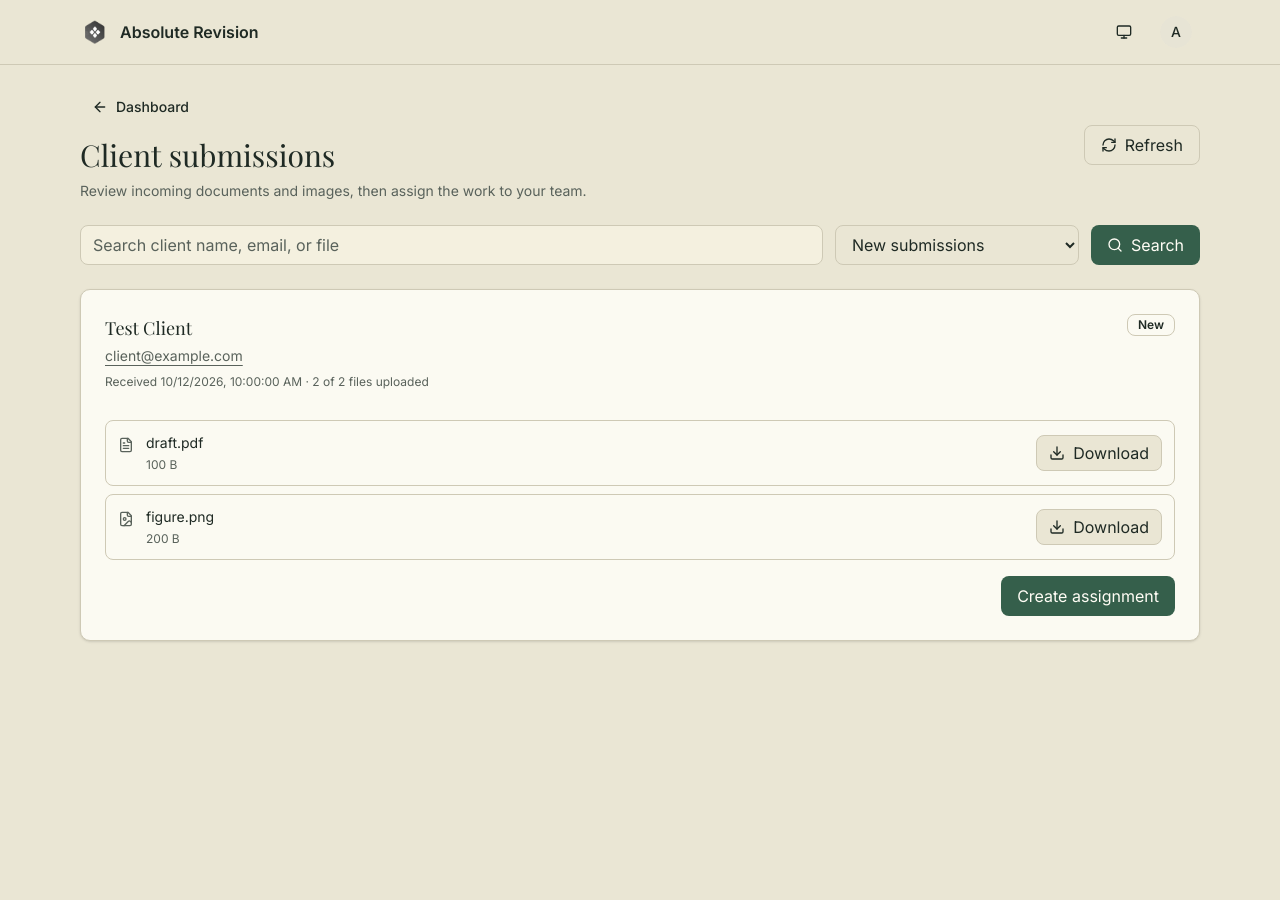
Test case: client submissions inbox › creates an assignment with the chosen assignee and keeps the dialog open on failure
Click the button "Create assignment" at (1088, 596), box [1001,576,1175,616]
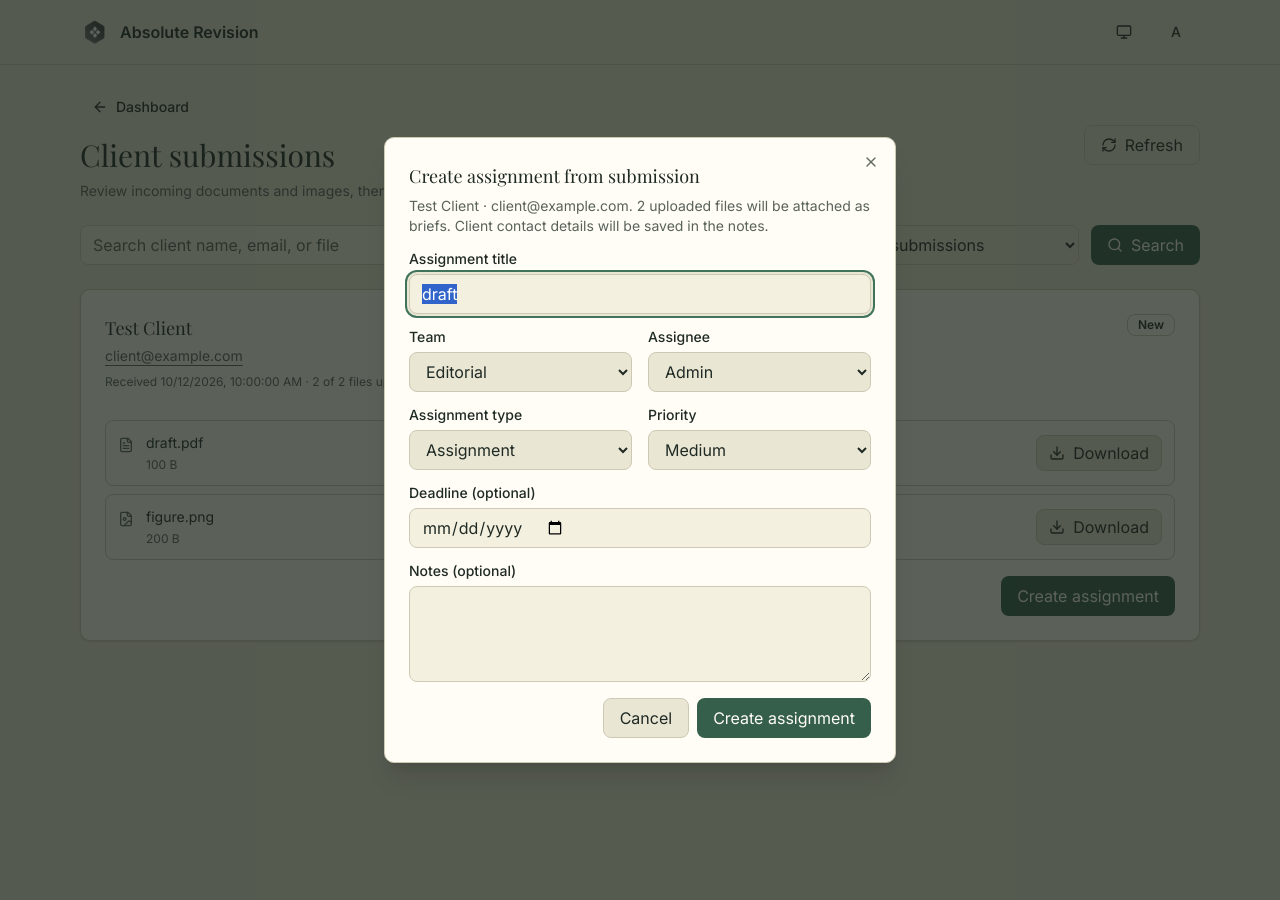
Expected: the field labelled "Assignment title" holds "draft", [409,274,871,314]
Select "Editor" in the dropdown labelled "Assignee" at (760, 372), box [648,352,871,392]
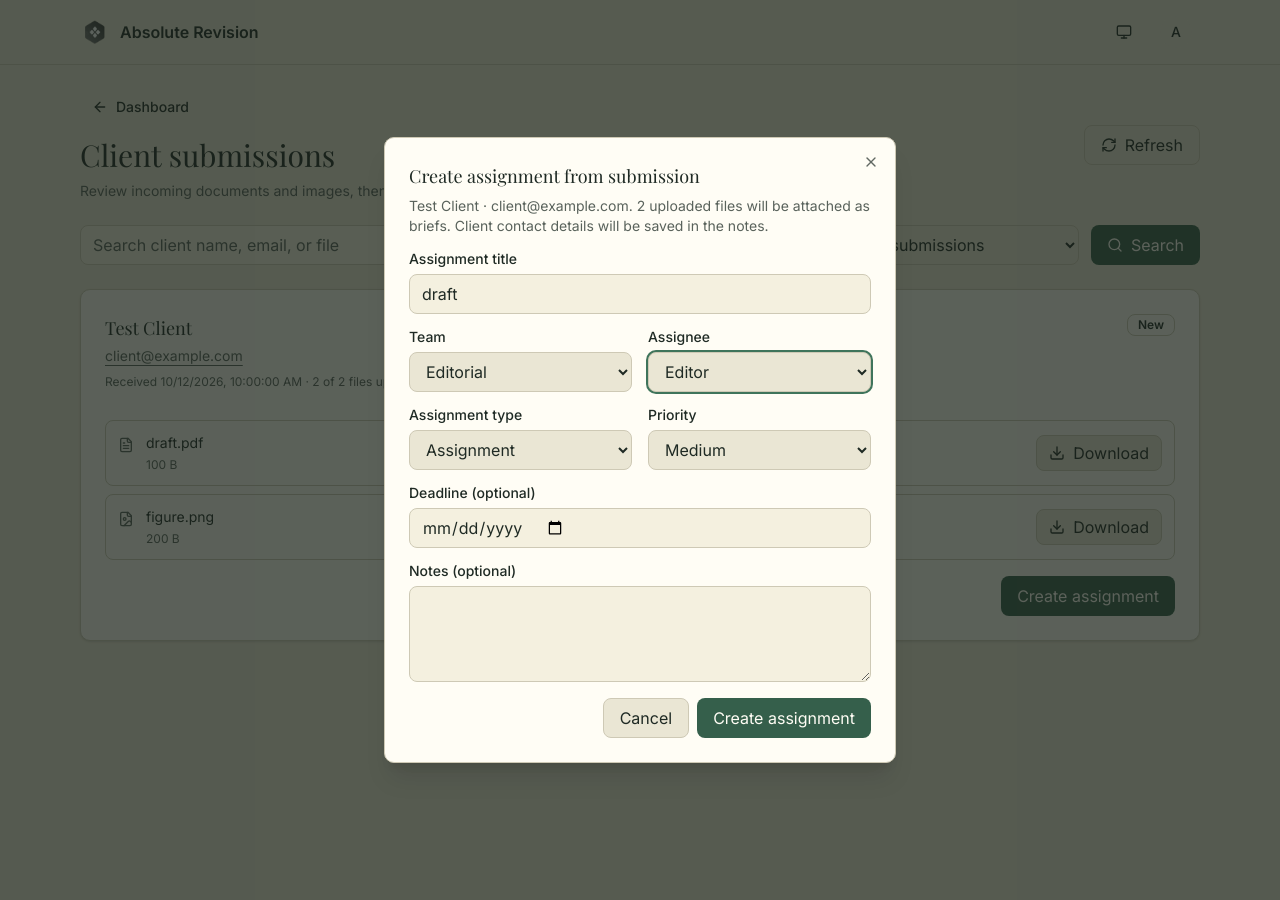
Select "Design" in the dropdown labelled "Assignment type" at (520, 450), box [409,430,632,470]
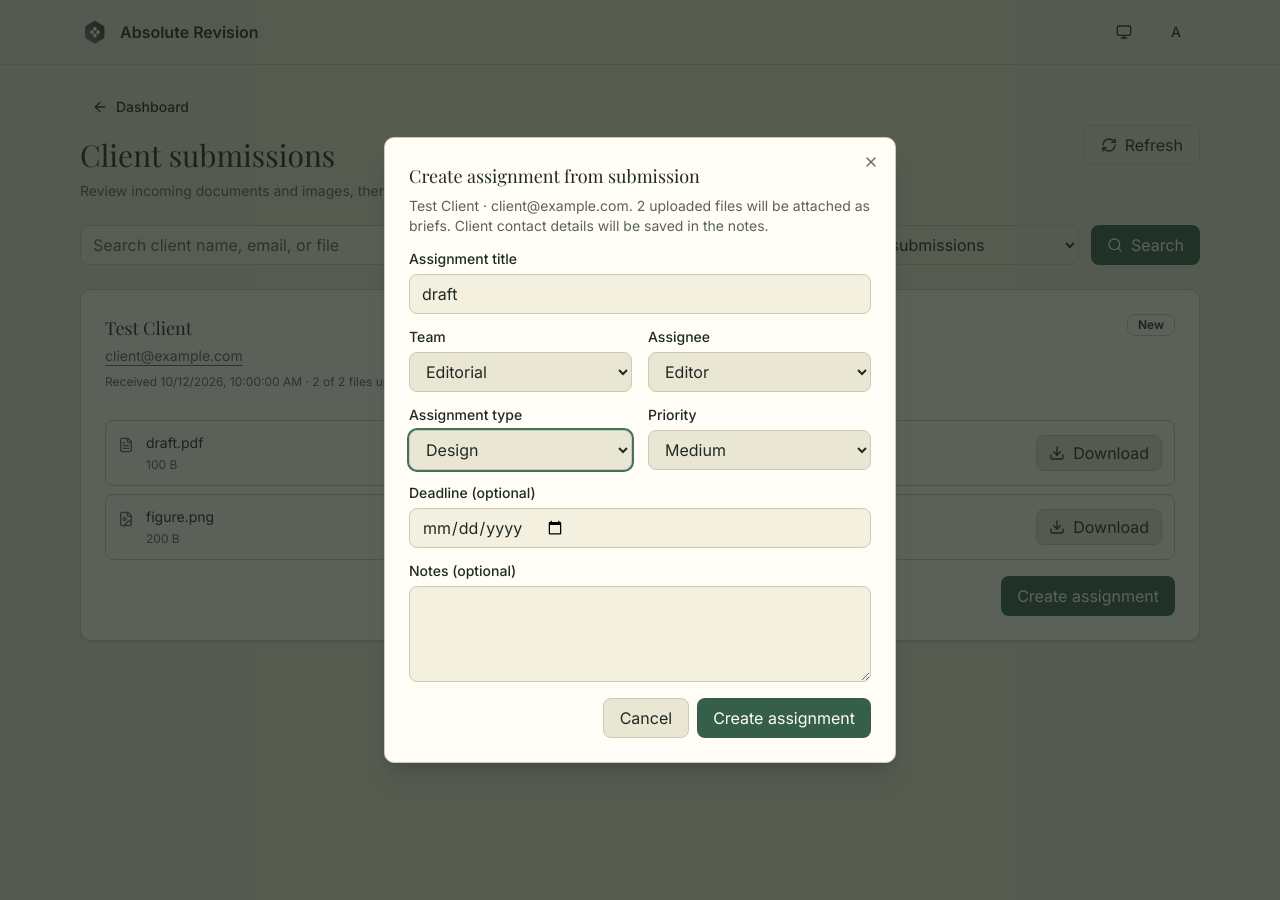
Click the button "Create assignment" at (784, 718), box [697,698,871,738]
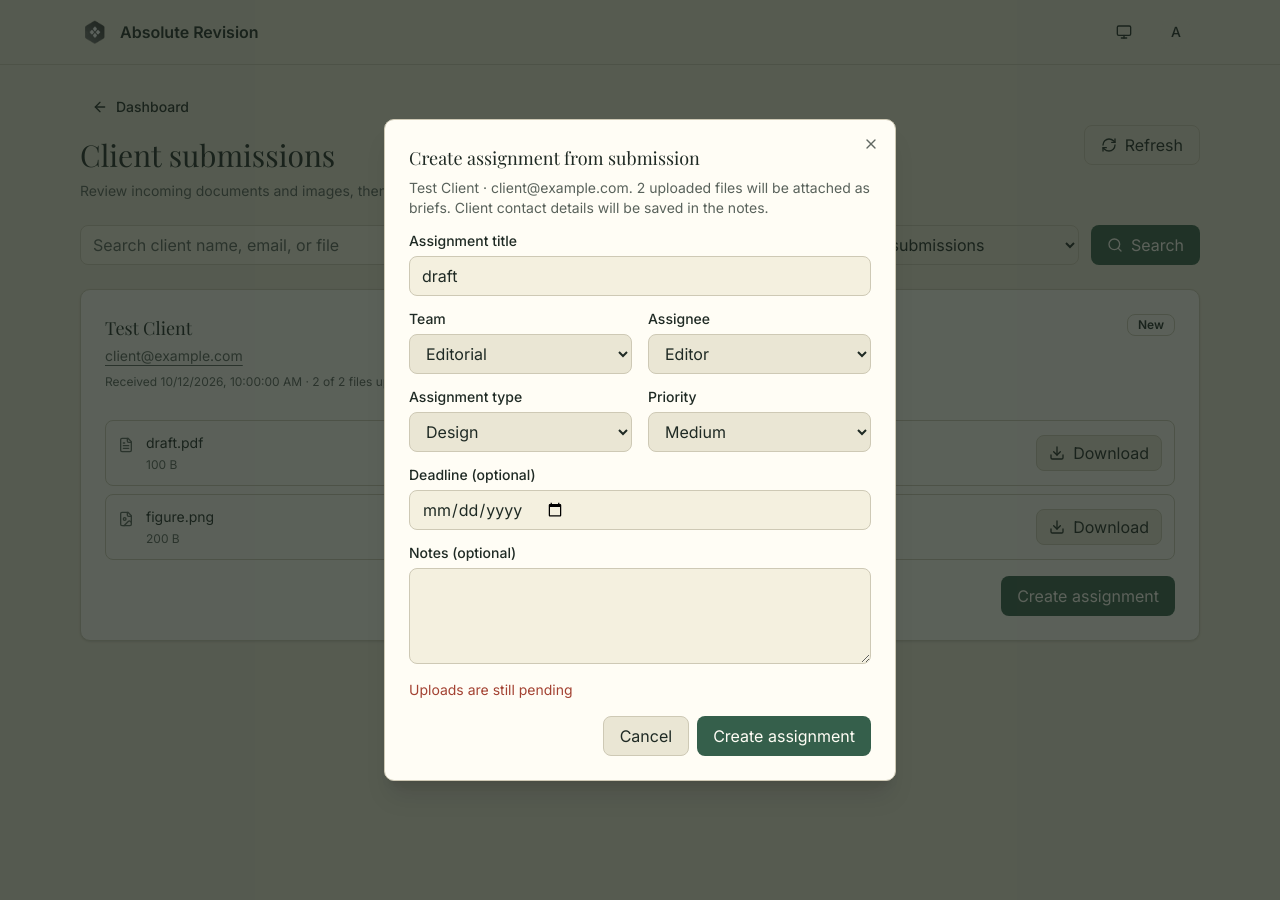
Expected: the message reads "Uploads are still pending", [409,681,573,698]
